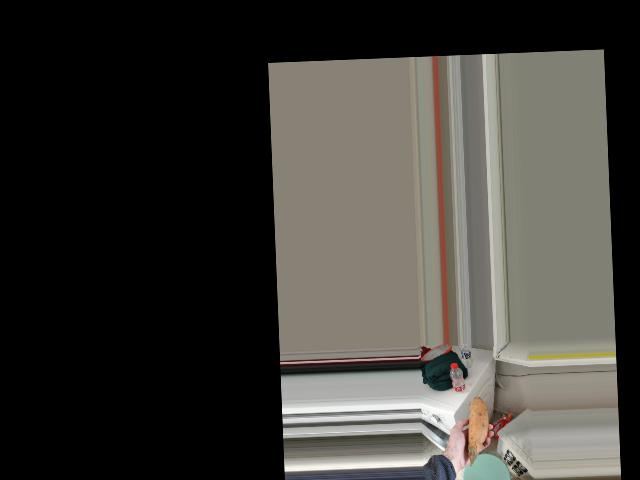sweet_potato: (470, 399, 493, 473)
